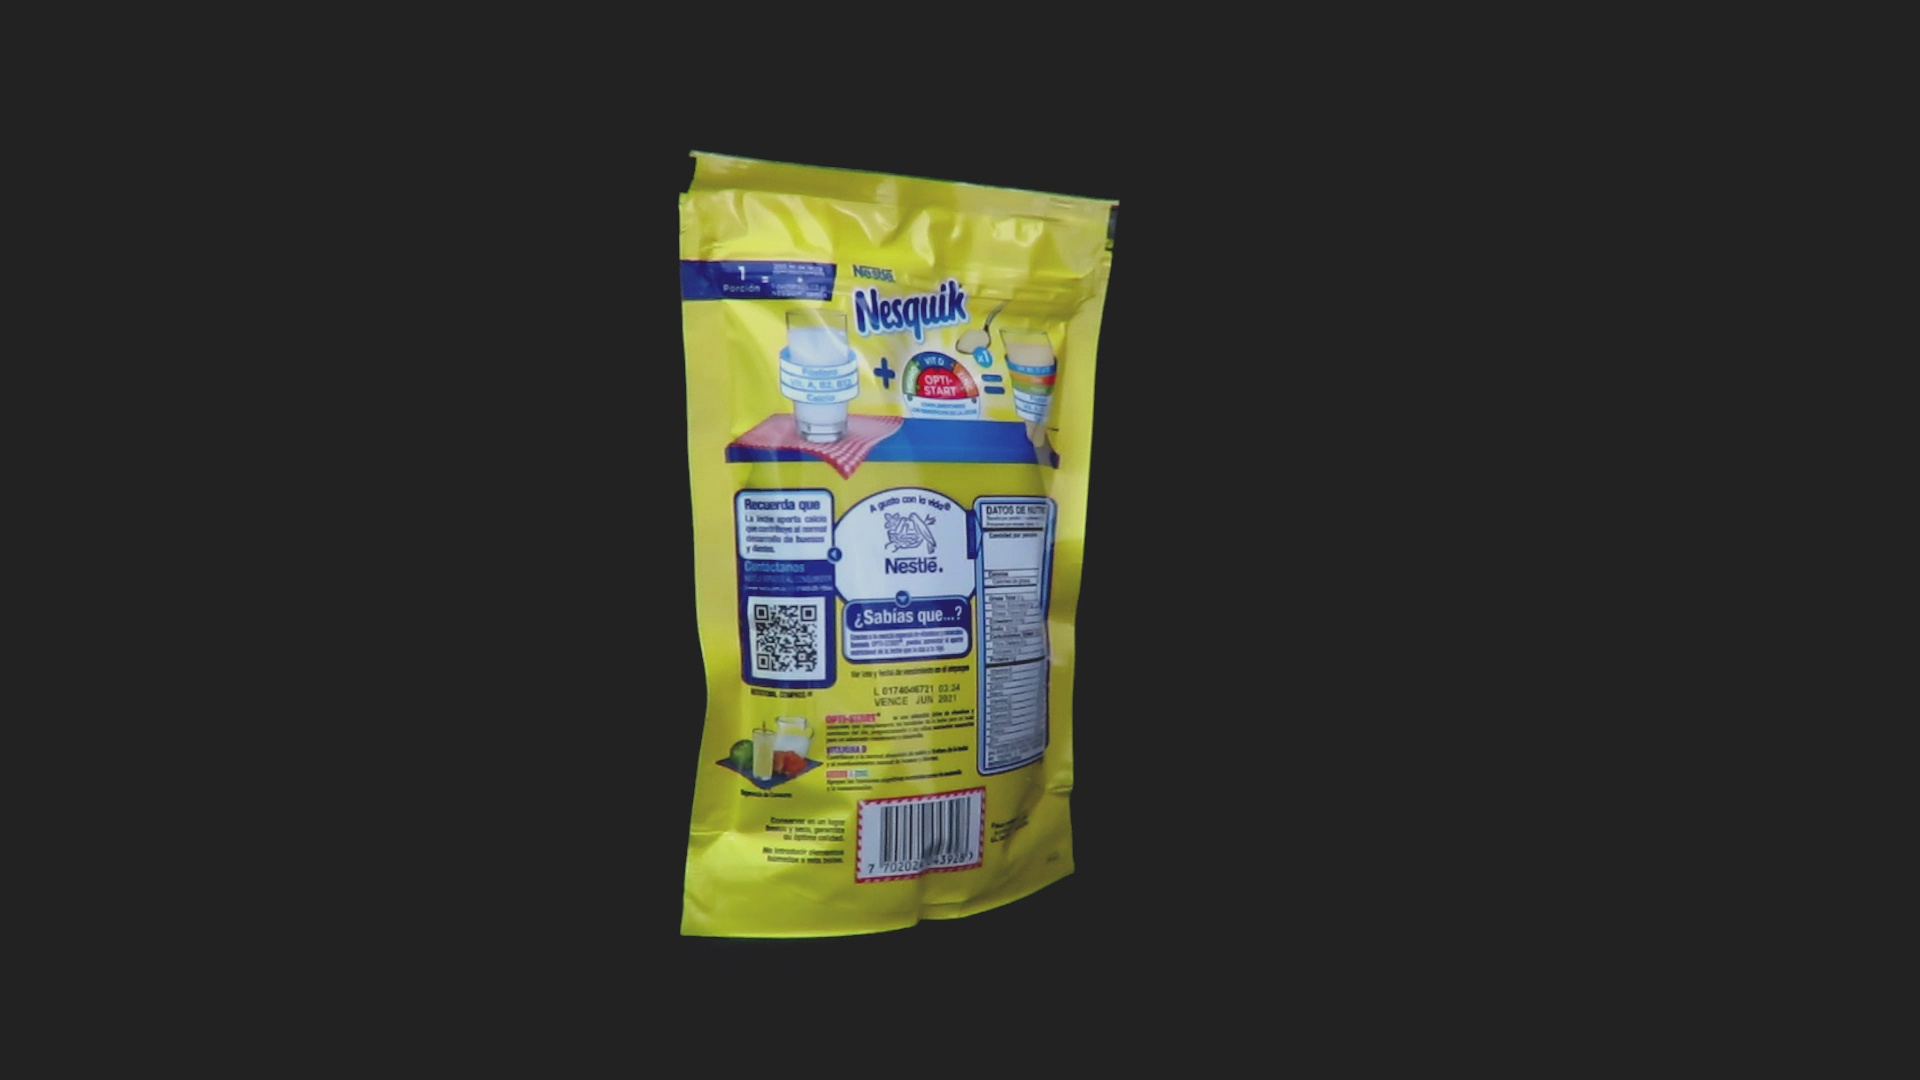COL0170306DYP20000: (673, 145, 1126, 944)
